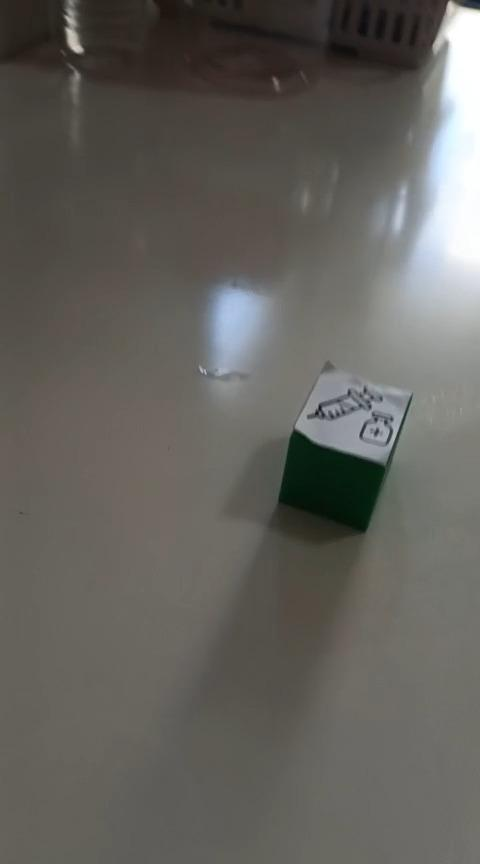antiseptic cream: (276, 358, 413, 533)
